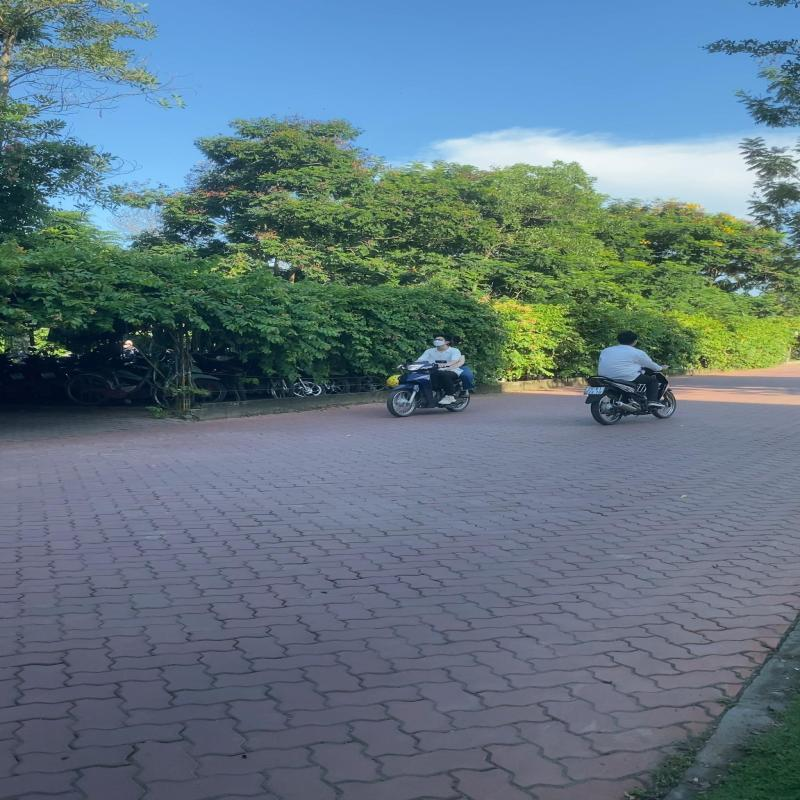licenseplate: (584, 386, 606, 395)
motorcyclist: (583, 329, 678, 426)
nohelmet: (616, 330, 640, 347)
